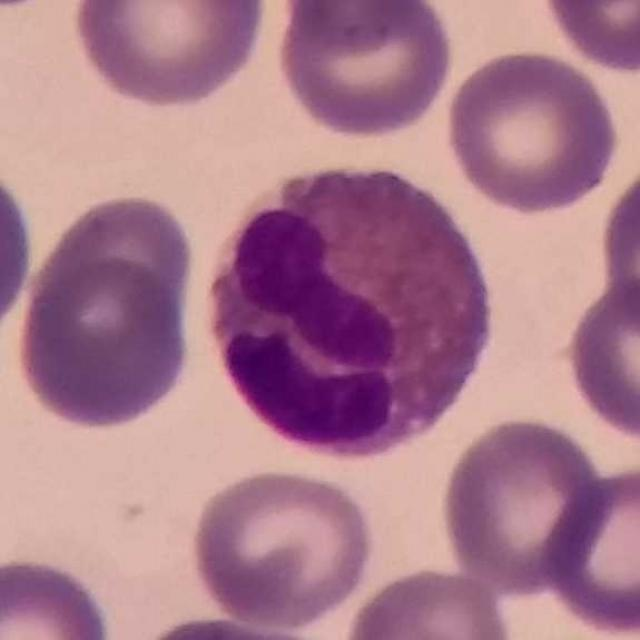Eosinophil: (204, 158, 508, 456)
RBC: (11, 249, 196, 434), (184, 463, 380, 631), (435, 412, 612, 595), (441, 46, 623, 217), (26, 191, 202, 364), (272, 0, 458, 140), (68, 0, 273, 112), (537, 461, 640, 639), (560, 270, 640, 447), (340, 563, 516, 640), (0, 552, 117, 640), (270, 0, 436, 51), (594, 148, 640, 332), (537, 0, 640, 75), (0, 155, 38, 353), (123, 611, 354, 640)
